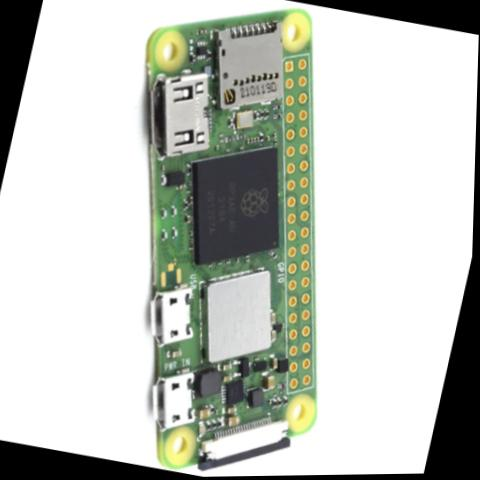Raspberry-Pi-Zero-2-W: (57, 0, 405, 479)
